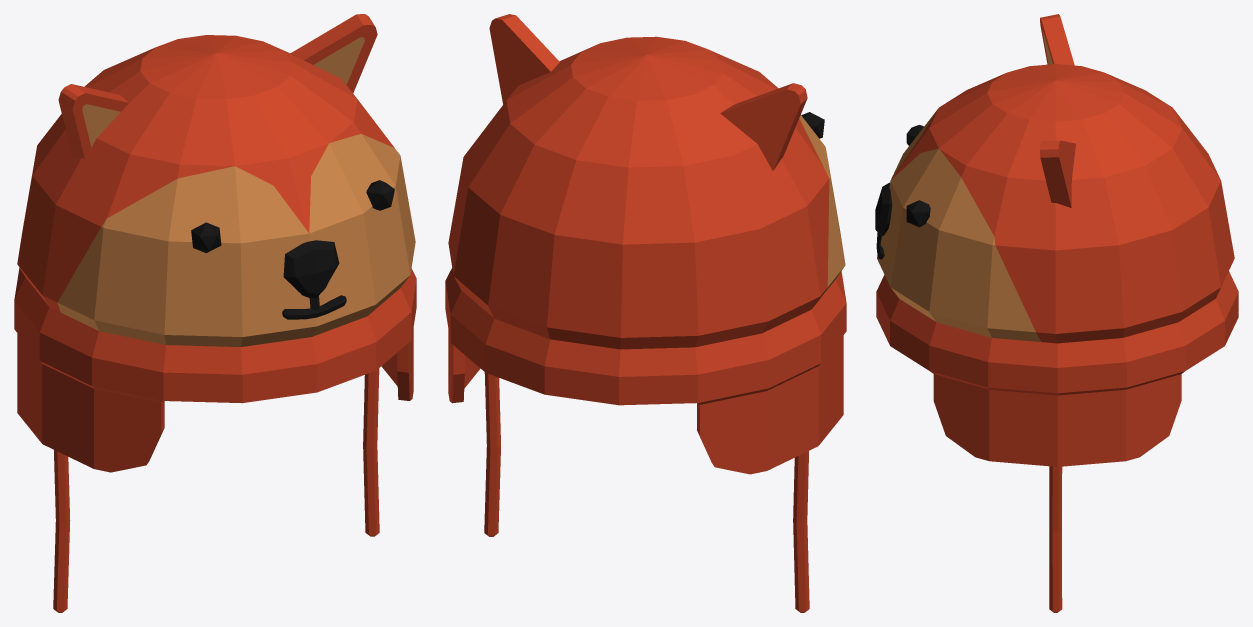
The model's file is hat_fox.glb.
3 renders of one model, left to right at view 1: azimuth 30°, elevation 25°; view 2: azimuth 150°, elevation 25°; view 3: azimuth 270°, elevation 25°, orthographic. The views are drawn at different scales.
Parts seen in each view (by area): view 1: FoxHat_Sphere; view 2: FoxHat_Sphere; view 3: FoxHat_Sphere.
Boxes of the visible parts, left/top/right/bottom form: FoxHat_Sphere: left=14, top=14, right=416, bottom=612; FoxHat_Sphere: left=445, top=14, right=846, bottom=612; FoxHat_Sphere: left=875, top=14, right=1238, bottom=612.
Bounding box in the file's own units: 0.6059 × 0.8609 × 0.6095.
